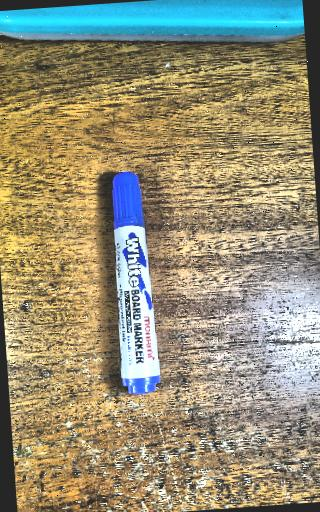marcador azul: (113, 171, 160, 394)
